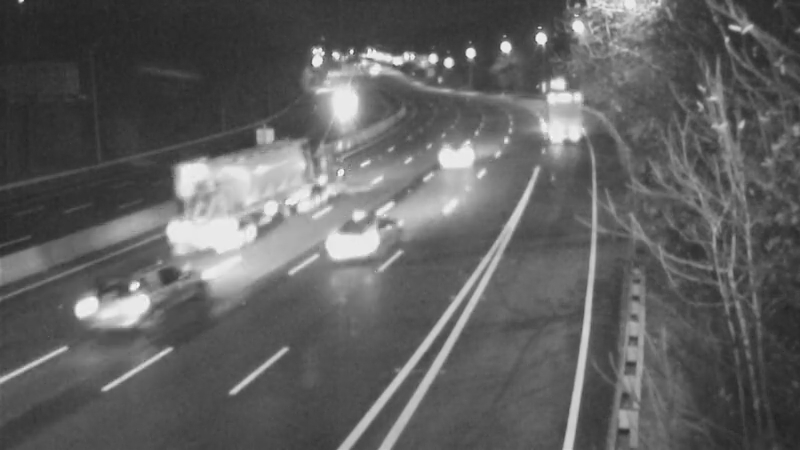vehicle: (65, 251, 175, 361), (415, 114, 495, 194), (204, 150, 284, 230), (315, 191, 395, 271), (533, 92, 583, 142), (317, 83, 367, 133)
